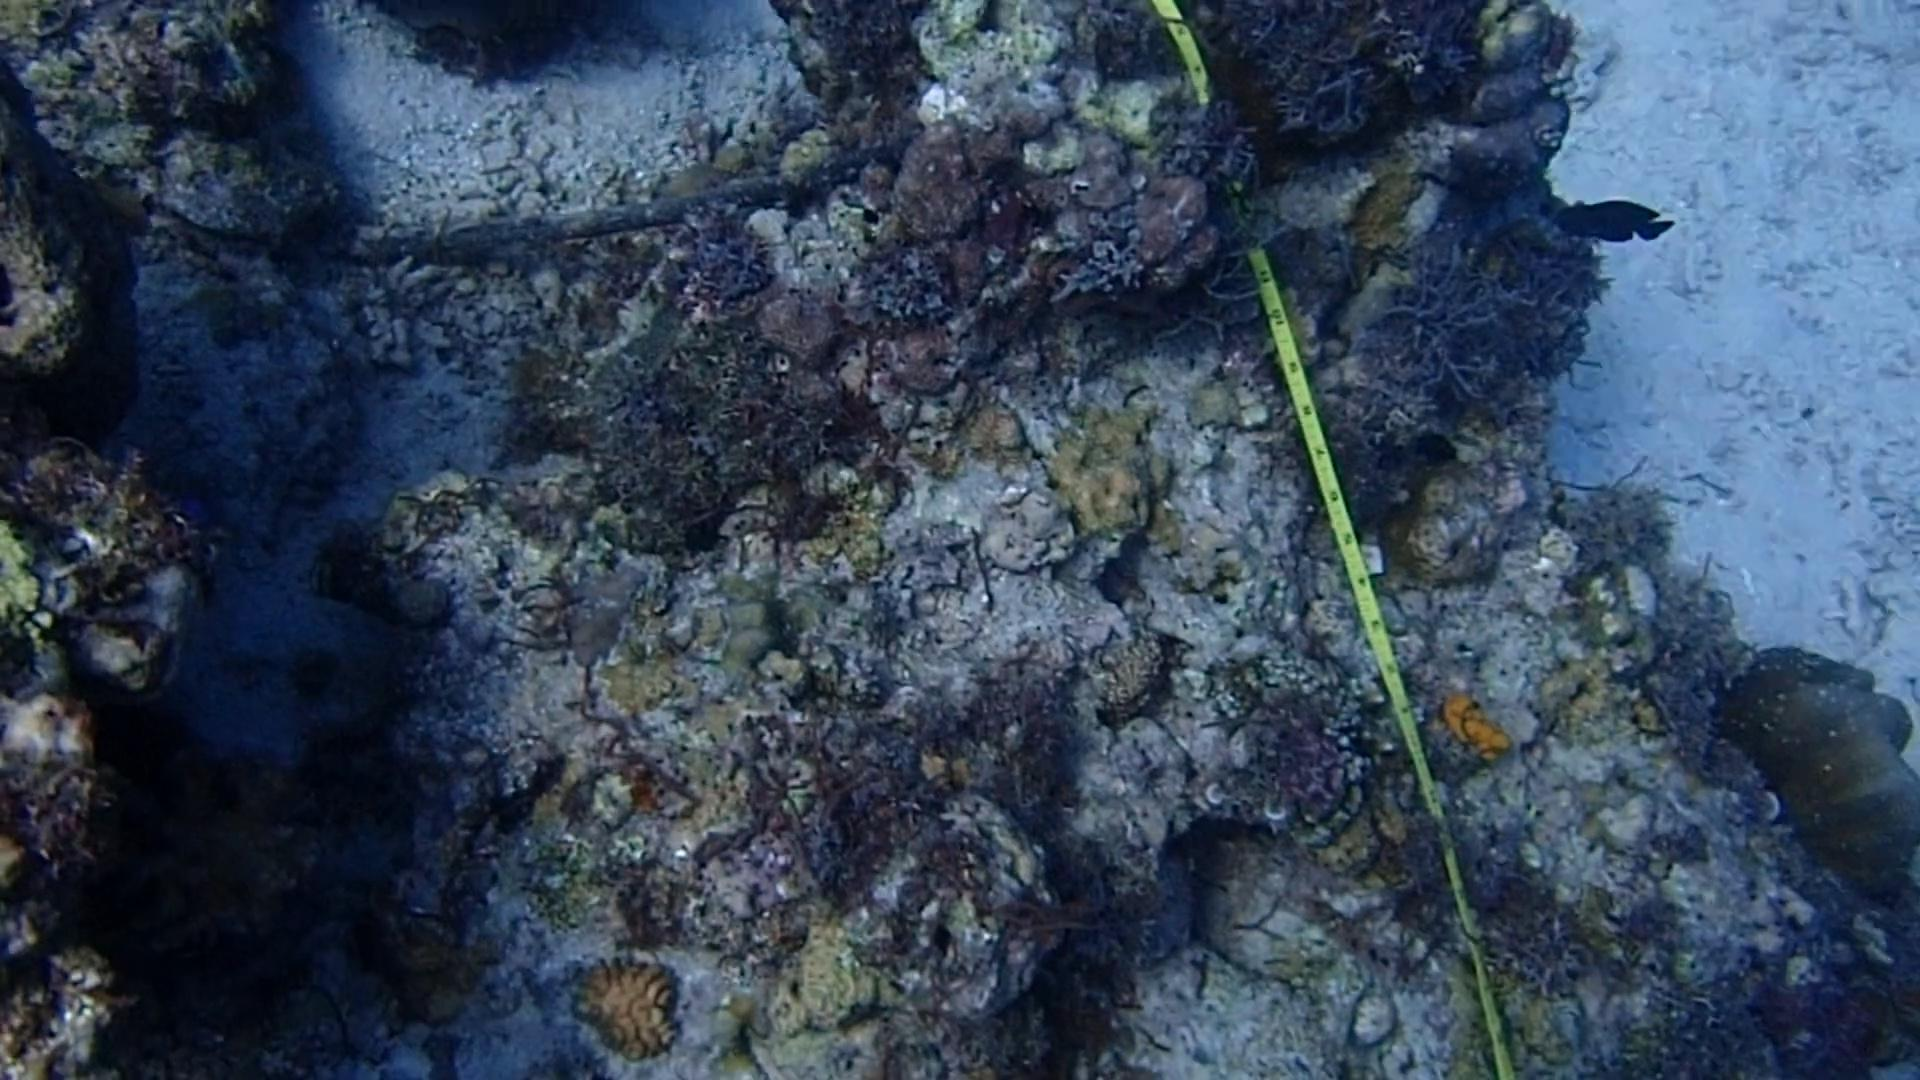Dark Fish: (1545, 190, 1683, 260)
